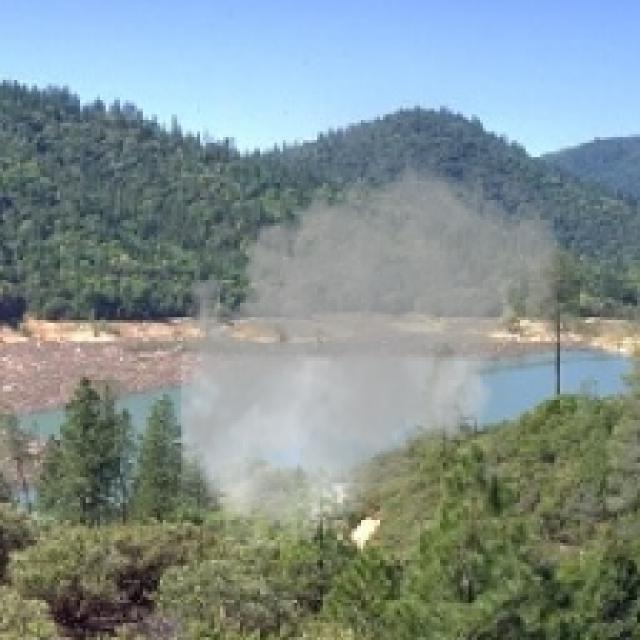smoke: (163, 143, 568, 548)
